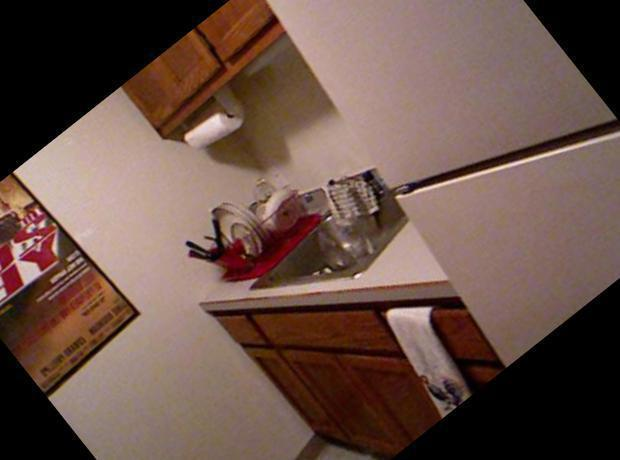Electrodomestico: (226, 0, 620, 363)
Lavaplatos: (224, 149, 434, 348)
